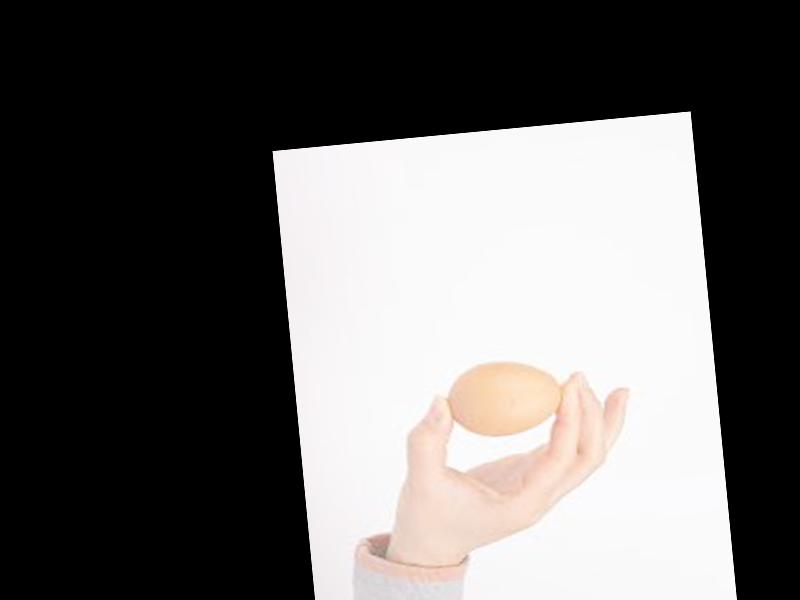Eggs: (447, 356, 567, 438)
